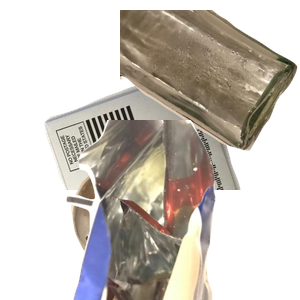glass: (120, 10, 300, 153)
paper: (42, 68, 275, 248)
plastic: (69, 161, 245, 300)
trash: (63, 120, 300, 300)
